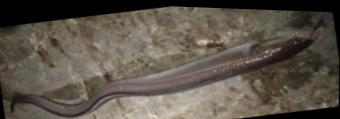fish: (8, 31, 317, 115)
